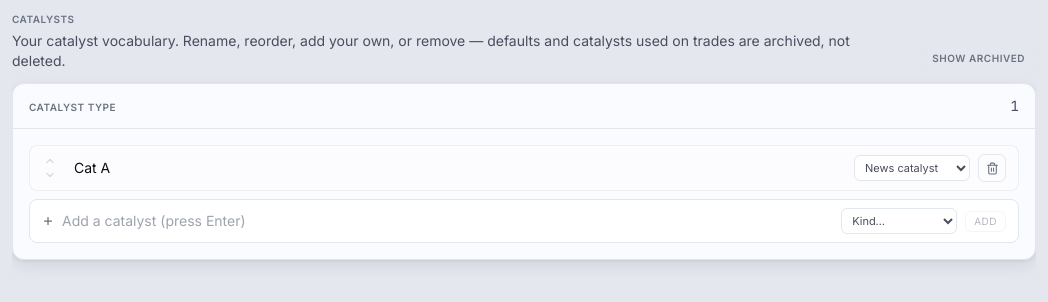
Test case: VocabularyEditor — the SAME fix lands on Catalyst (it is the shared component) › a hard-delete SAYS SO
What coordinates should you click on to do the following:
click the button named "Remove Cat A"
I would click on:
 (992, 168)
Its box is [978, 154, 1006, 182].
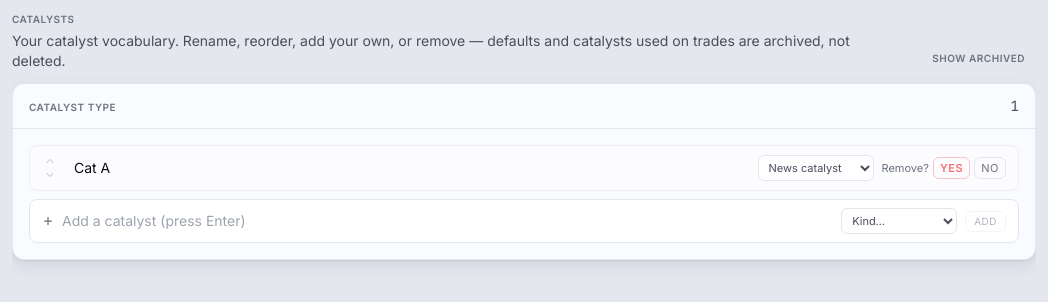
What coordinates should you click on to do the following:
click the button "Yes"
I would click on:
 (952, 168)
Its box is [933, 157, 970, 179].
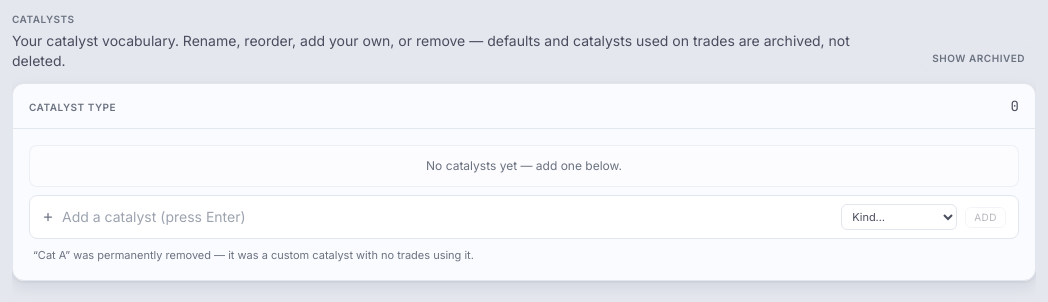
Check: the text "permanently removed" shows "Cat A", box [33, 248, 474, 262]
